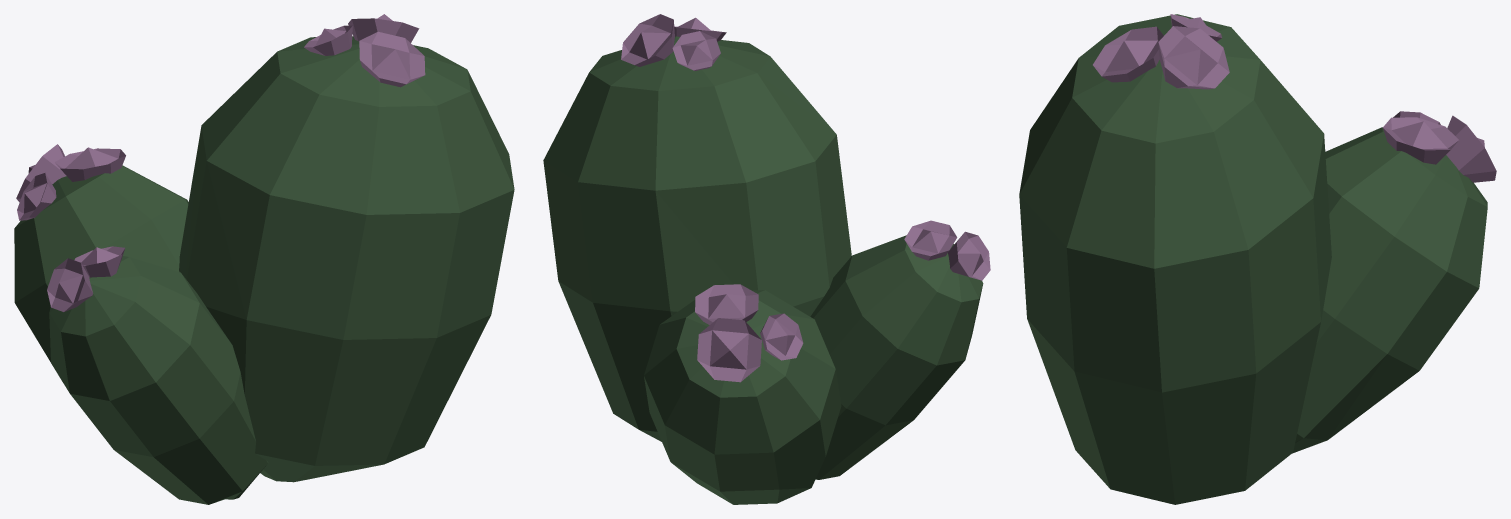
The model's file is Cactus02.fbx.
3 renders of one model, left to right at view 1: azimuth 30°, elevation 25°; view 2: azimuth 150°, elevation 25°; view 3: azimuth 270°, elevation 25°, orthographic. The views are drawn at different scales.
Visible parts, largest first — view 1: cactus3; view 2: cactus3; view 3: cactus3.
Part boxes in pixels (bbox=[...]): cactus3: bbox=[14, 14, 514, 504]; cactus3: bbox=[543, 14, 990, 504]; cactus3: bbox=[1019, 14, 1496, 504].
Bounding box in the file's own units: 98.93 × 92.89 × 82.33.
